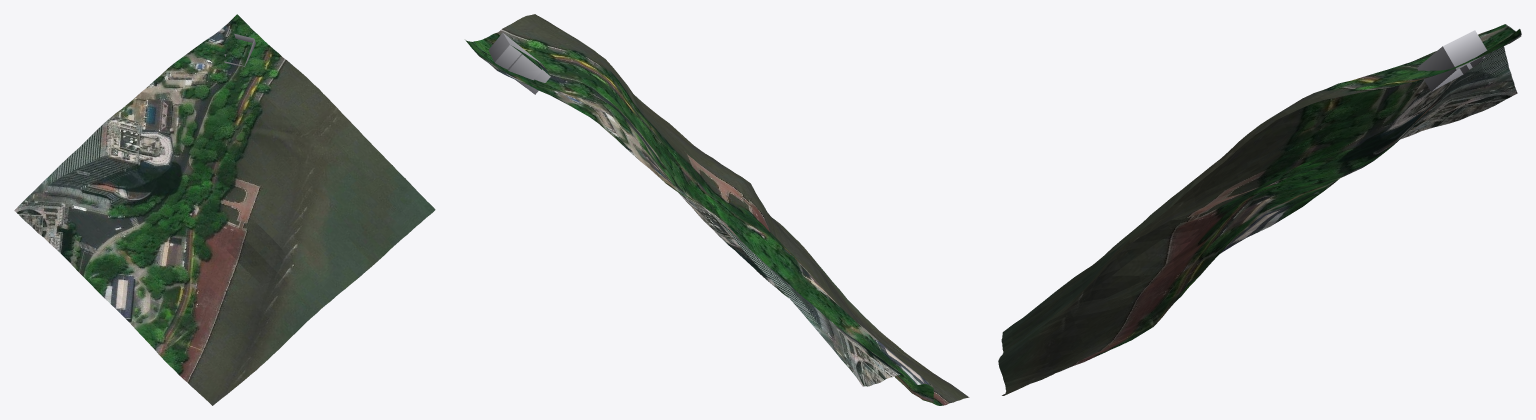
3 renders of one model, left to right at view 1: azimuth 30°, elevation 25°; view 2: azimuth 150°, elevation 25°; view 3: azimuth 270°, elevation 25°, orthographic. The views are drawn at different scales.
Bounding box in the file's own units: 293 × 248 × 227.
1 material, 1 textured.
